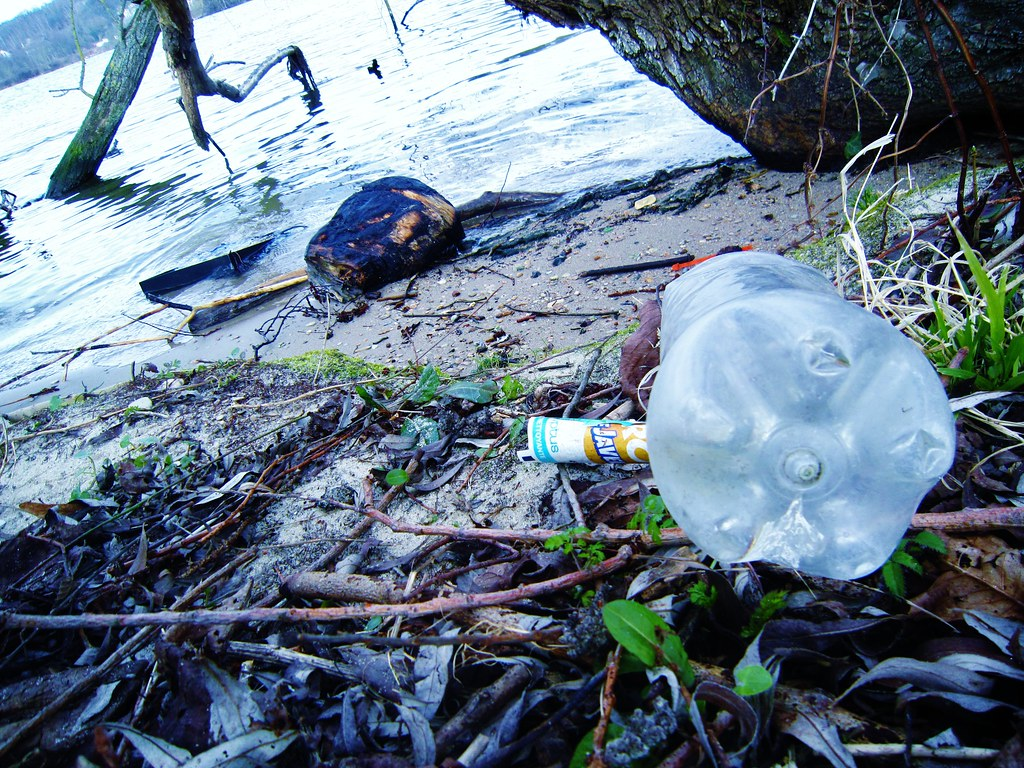plastic_bottle: (643, 246, 970, 593)
